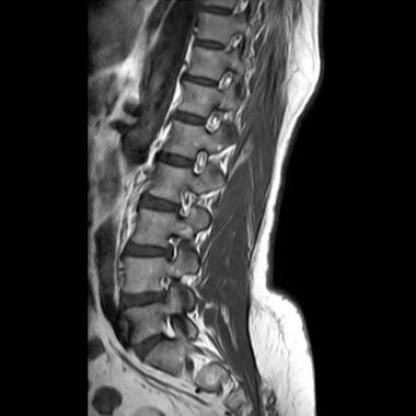Disc Bulgerotation: (120, 237, 174, 266), (119, 286, 165, 312)
